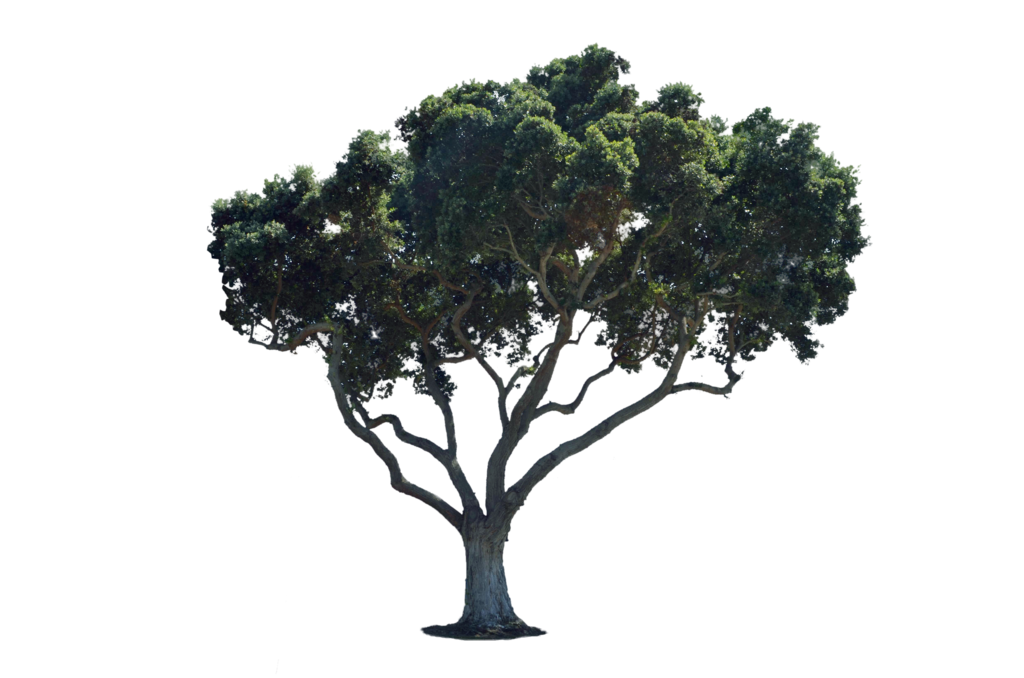tree: (203, 39, 873, 642)
